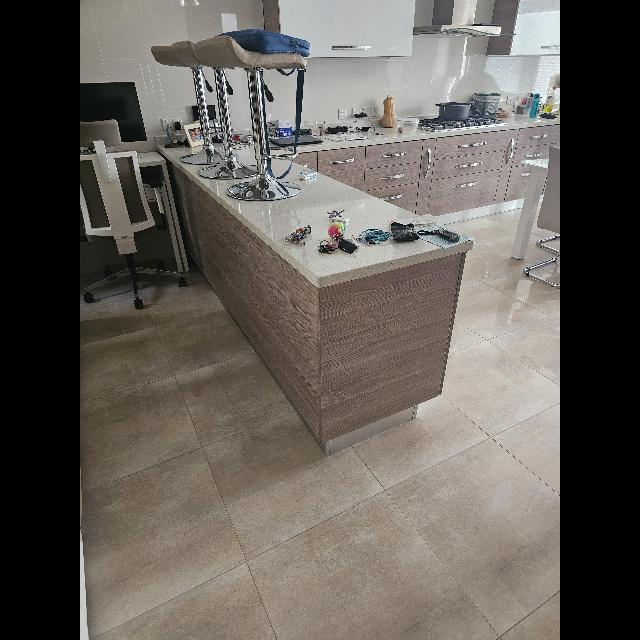Keys: (321, 233, 355, 253), (284, 225, 312, 247), (326, 210, 349, 224), (318, 240, 338, 254)
